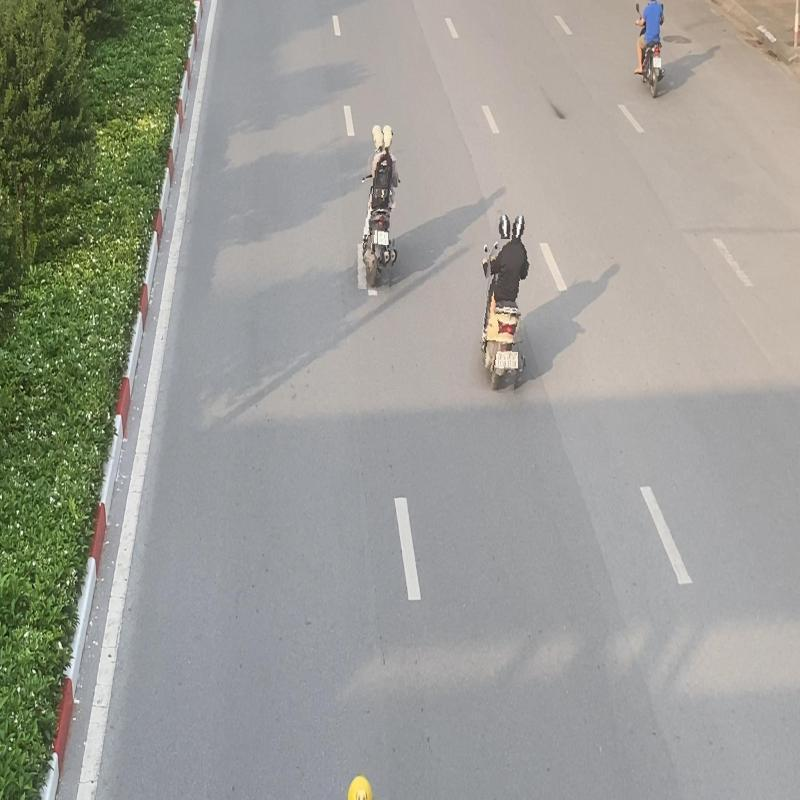helmet: (372, 123, 385, 152), (497, 214, 512, 239)
licenseplate: (504, 351, 518, 370), (377, 230, 389, 245)
motorcyclist: (474, 211, 536, 394), (356, 122, 404, 292)
